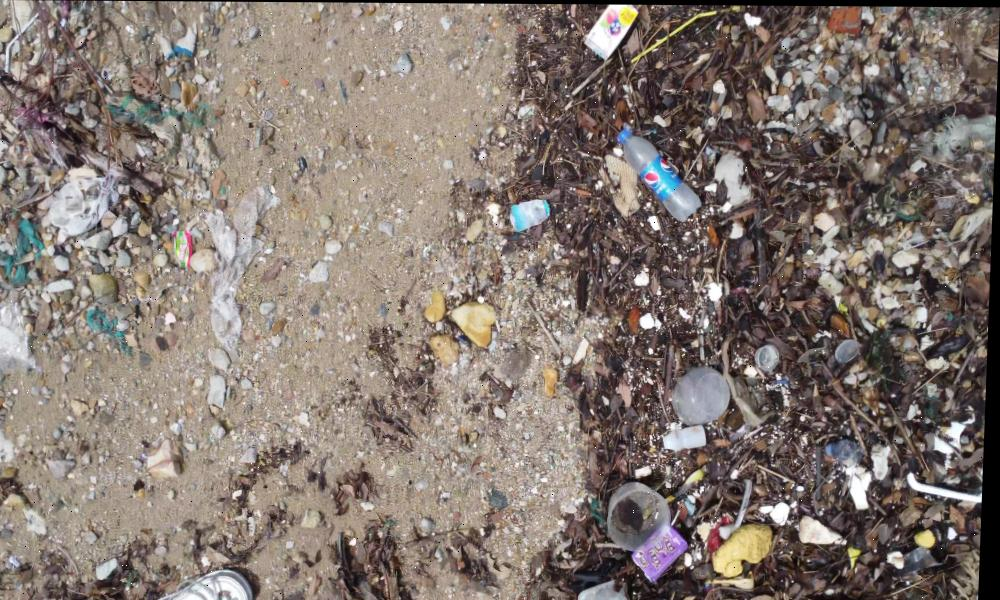carton: (637, 516, 699, 584), (579, 4, 642, 60), (508, 193, 553, 235)
plastic bag: (35, 164, 123, 240), (0, 254, 32, 402)
plastic bottle: (613, 119, 708, 220)
plastic container: (603, 477, 675, 554), (664, 366, 744, 424)
